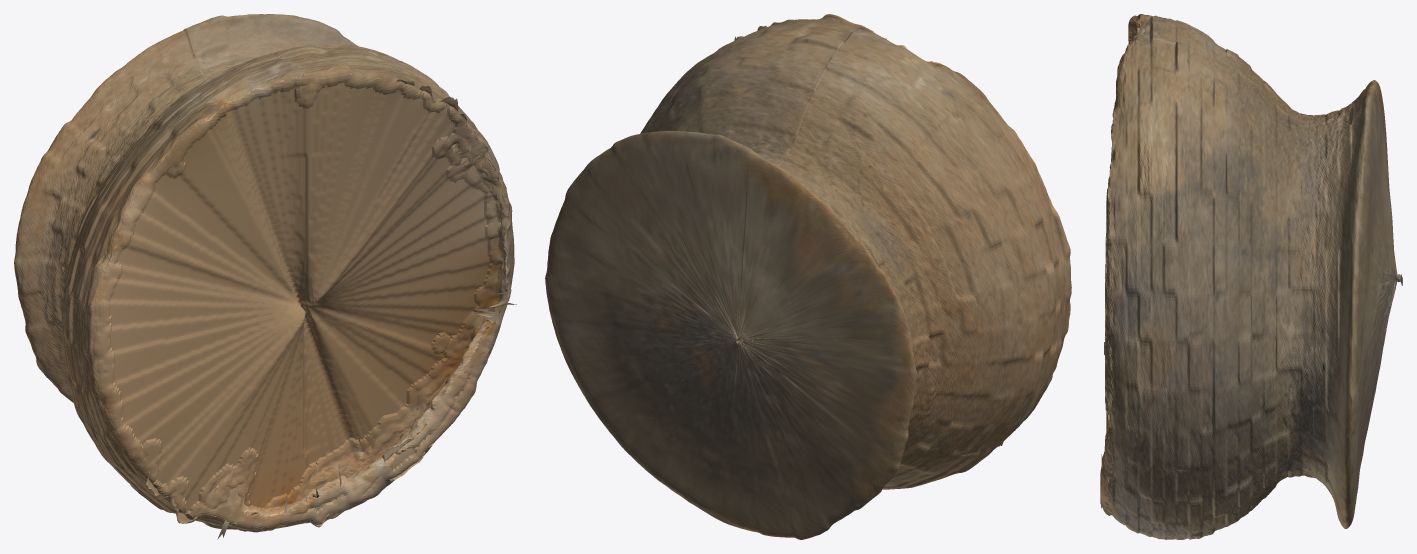
File: mesh_inpaint.glb
3 views of the same model, side by side, from view 1: azimuth 30°, elevation 25°; view 2: azimuth 150°, elevation 25°; view 3: azimuth 270°, elevation 25° (orthographic). The views are drawn at different scales.
Visible parts, largest first — view 1: fill, ipn; view 2: ipn; view 3: ipn, fill.
Part boxes in pixels (left/top/right/bottom): fill: left=92, top=68, right=513, bottom=530; ipn: left=14, top=14, right=516, bottom=539; ipn: left=545, top=14, right=1071, bottom=539; ipn: left=1101, top=14, right=1402, bottom=539; fill: left=1100, top=15, right=1396, bottom=512.
Size of the model in its own units: 1.96 by 1.96 by 1.14.
2 materials, 1 textured.
